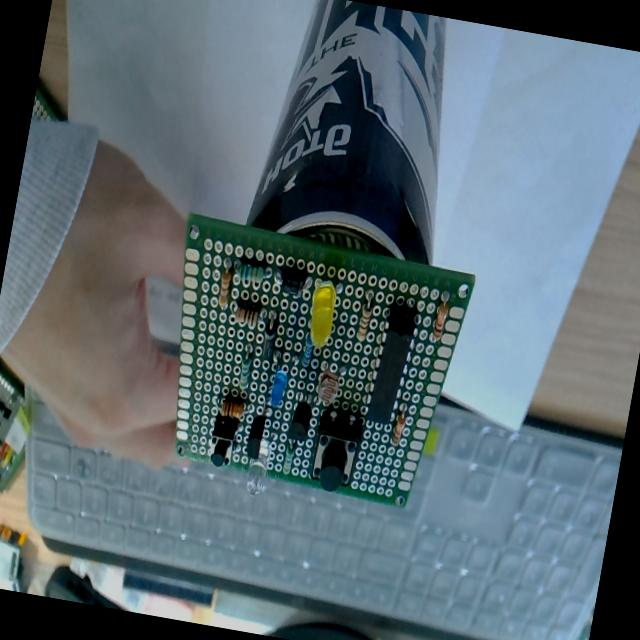IC: (366, 302, 418, 426)
cds: (314, 366, 342, 408)
diode: (256, 313, 279, 377), (276, 264, 310, 296)
led: (304, 279, 339, 350), (244, 437, 272, 498), (268, 368, 288, 408)
resistor: (296, 331, 316, 382), (430, 295, 450, 341), (236, 346, 254, 396), (215, 266, 233, 310), (236, 262, 266, 286), (390, 410, 408, 447), (220, 396, 246, 421), (233, 303, 259, 328), (356, 303, 372, 342), (281, 440, 295, 475)
switch: (307, 408, 363, 492), (205, 406, 242, 469)
transistor: (287, 357, 322, 442), (244, 414, 266, 459)
